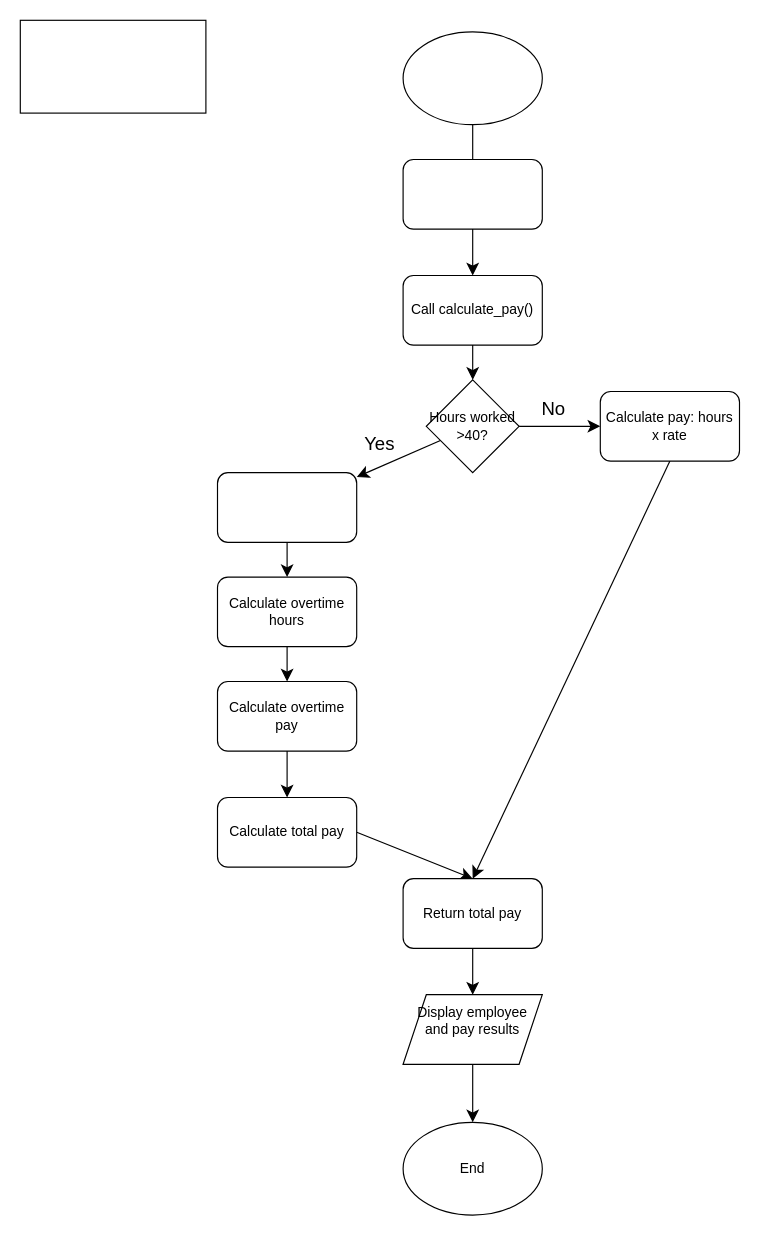
Image size: 760x1235. Some labels were removed from this diagram. The centre of each missing label's shape, as x and y in pixels:
"Calculate regular pay" belongs at (x=286, y=507).
"Drew Byford Module 2 - Documented Debugging + Flowchart" belongs at (x=112, y=66).
"Set emplpyee name, hours = 45, rate = 21.75" belongs at (x=472, y=193).
"Start" belongs at (x=472, y=78).
